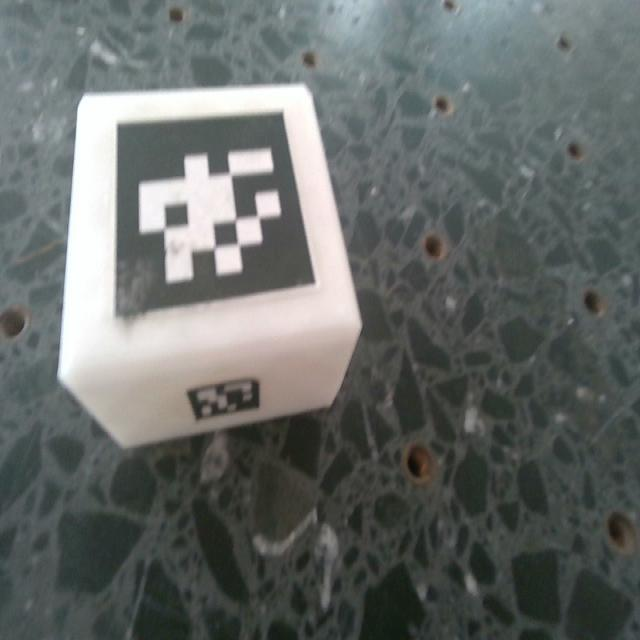Cube: (57, 84, 363, 452)
